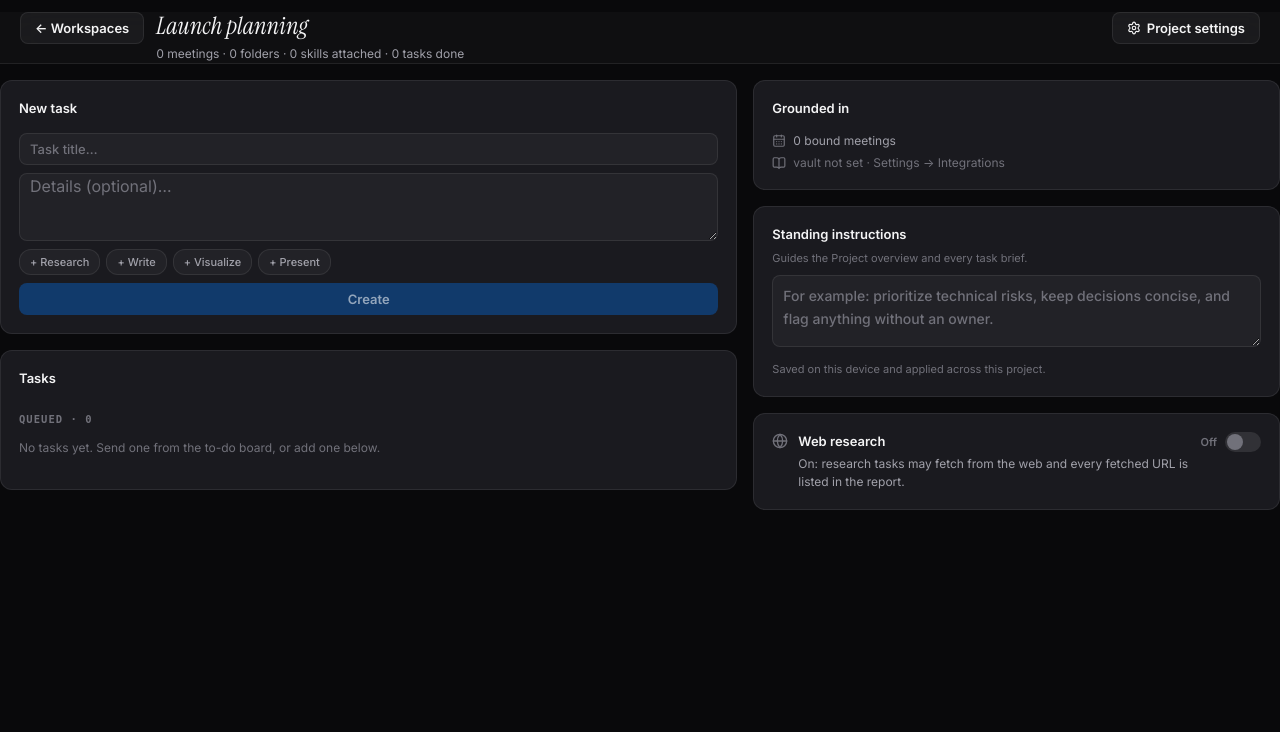
Test: WorkspaceDetailView two-pane project screen › previews what would ground a drafted task
Type "Draft the launch brief" into the field labelled "Task title" at coordinates (369, 148), box [19,132,718,164]
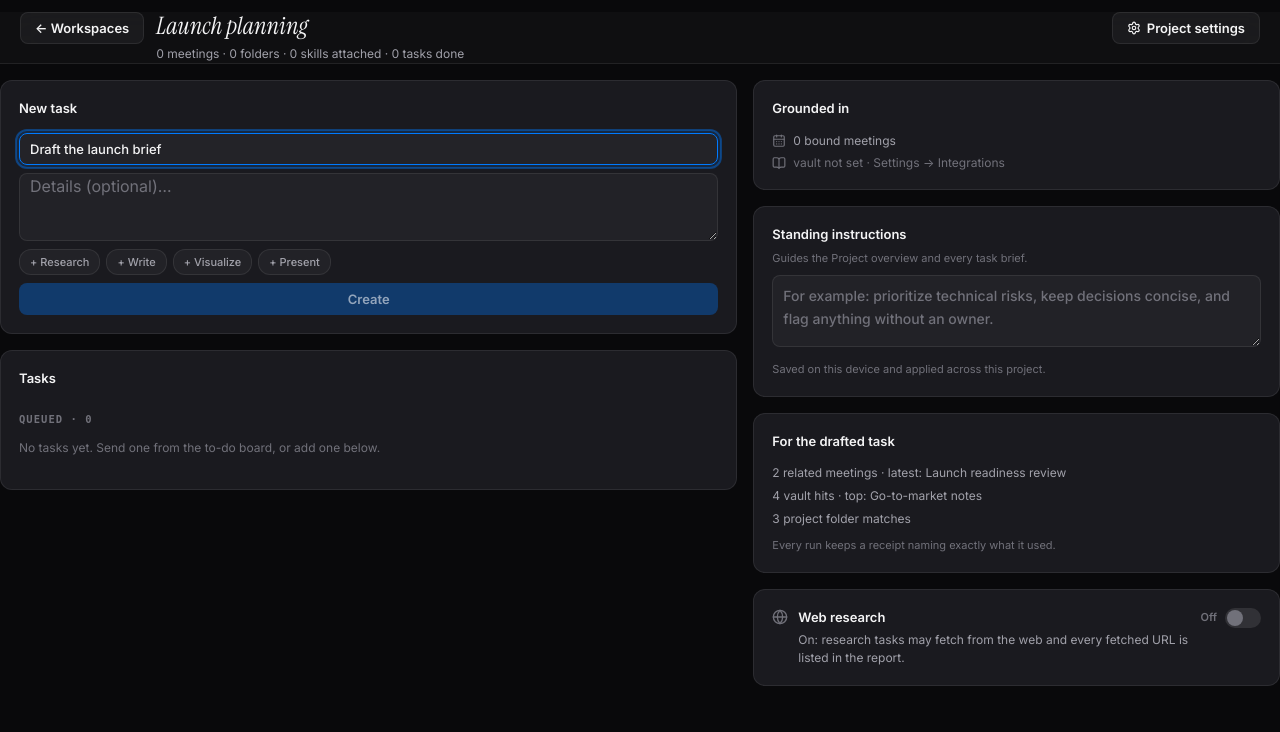
Now the text "2 related meetings · latest: Launch readiness review" is shown, box [772,465,1066,480]
Now the text "4 vault hits · top: Go-to-market notes" is shown, box [772,488,982,503]
Now the text "3 project folder matches" is shown, box [772,511,911,526]
